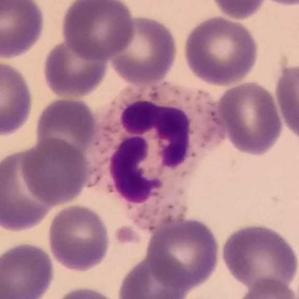Neutrophil: (87, 79, 231, 232)
Platelets: (114, 225, 142, 250)
RBC: (144, 214, 222, 290), (180, 14, 260, 87), (218, 221, 299, 293), (214, 79, 286, 157), (108, 13, 180, 86), (0, 147, 59, 234), (19, 136, 90, 205), (46, 202, 112, 274), (59, 0, 136, 60), (33, 94, 98, 160), (40, 38, 110, 99), (115, 253, 192, 299), (0, 240, 57, 298), (0, 58, 36, 138), (0, 0, 47, 60), (273, 58, 299, 145), (234, 275, 299, 299), (208, 0, 269, 21), (48, 284, 125, 299), (0, 277, 28, 299), (249, 0, 299, 8)
